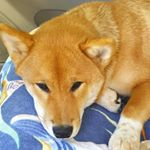puppy: (1, 17, 121, 142)
